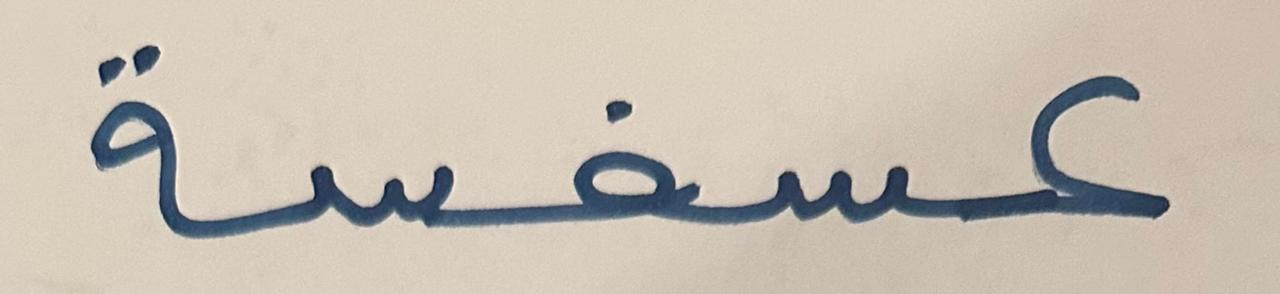ain: (958, 9, 1217, 266)
feh: (501, 1, 723, 267)
sheen: (248, 4, 496, 263), (727, 9, 952, 273)
thal: (59, 6, 244, 263)
